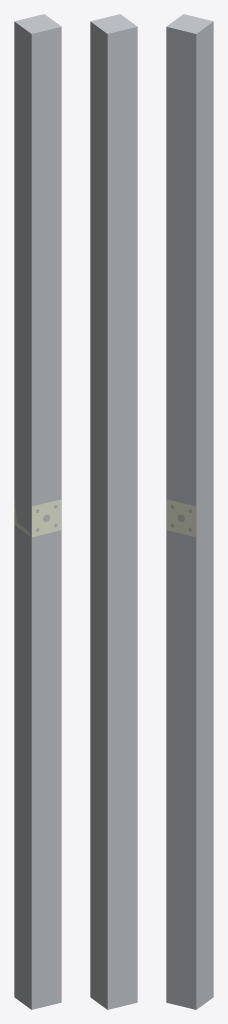
File: opla.glb
3 renders of one model, left to right at view 1: azimuth 30°, elevation 25°; view 2: azimuth 210°, elevation 25°; view 3: azimuth 330°, elevation 25°, orthographic.
Parts seen in each view (by area): view 1: edge_600mm, edge_800mm, edge_400mm, edge_200mm, node_25mm; view 2: edge_600mm, edge_800mm, edge_400mm, edge_200mm; view 3: edge_600mm, edge_800mm, edge_400mm, edge_200mm, node_25mm.
Boxes of the visible parts, x1=… form: edge_600mm: x1=14, y1=148, x2=61, y2=883; edge_800mm: x1=14, y1=14, x2=61, y2=1009; edge_400mm: x1=14, y1=273, x2=61, y2=756; edge_200mm: x1=14, y1=399, x2=61, y2=629; node_25mm: x1=14, y1=495, x2=61, y2=537; edge_600mm: x1=90, y1=148, x2=137, y2=883; edge_800mm: x1=90, y1=14, x2=137, y2=1009; edge_400mm: x1=90, y1=273, x2=137, y2=757; edge_200mm: x1=90, y1=400, x2=137, y2=629; edge_600mm: x1=166, y1=148, x2=213, y2=883; edge_800mm: x1=166, y1=14, x2=213, y2=1009; edge_400mm: x1=166, y1=274, x2=213, y2=757; edge_200mm: x1=166, y1=401, x2=213, y2=630; node_25mm: x1=166, y1=499, x2=195, y2=537.
Bounding box in the file's own units: 0.025 × 0.775 × 0.025.
